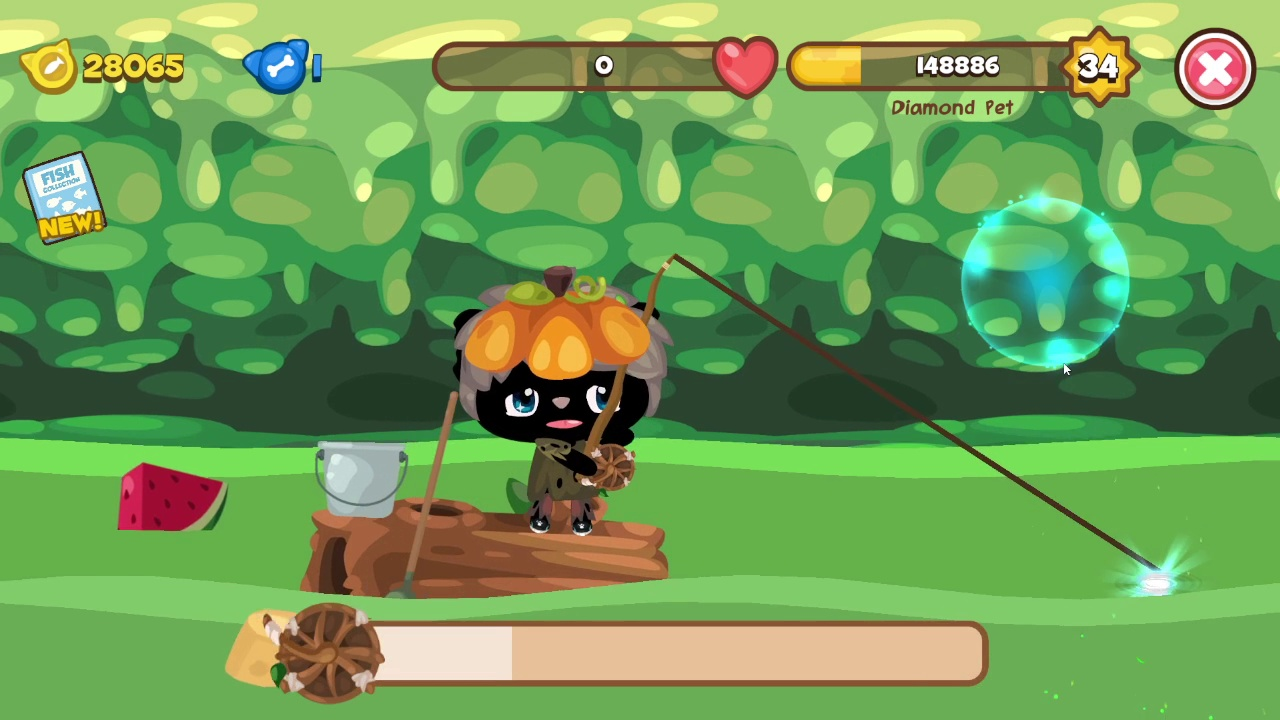point: (959, 193, 1132, 367)
